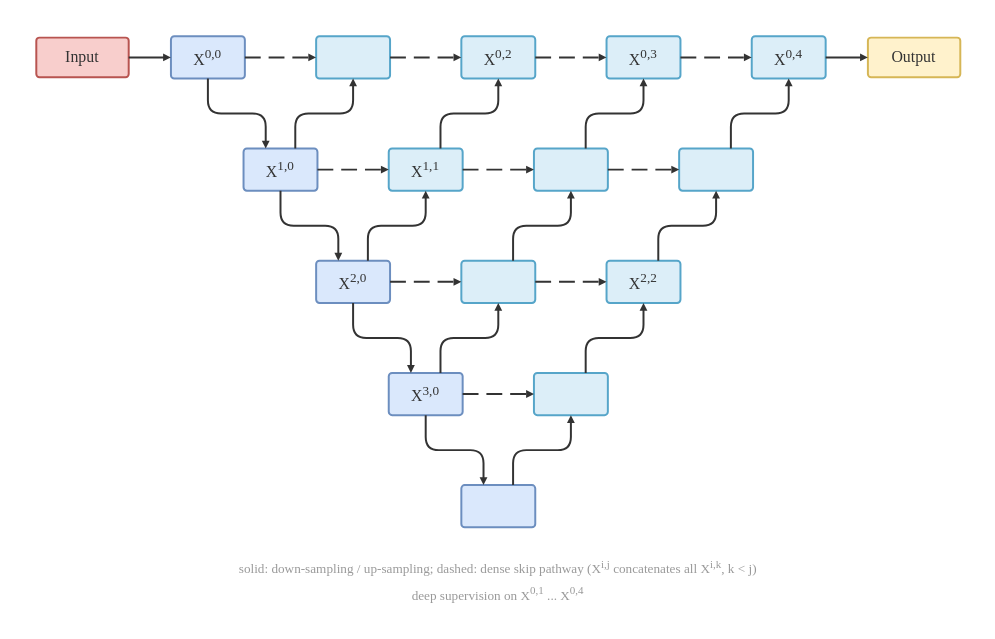
This 995x639 diagram has some shape labels left out. Each missing label, with the box of its shape:
X 0,1: (315, 35, 390, 79)
X 1,2: (532, 147, 608, 191)
X 1,3: (678, 147, 753, 191)
X 2,1: (460, 259, 536, 303)
X 3,1: (532, 371, 608, 416)
X 4,0: (460, 484, 536, 528)
